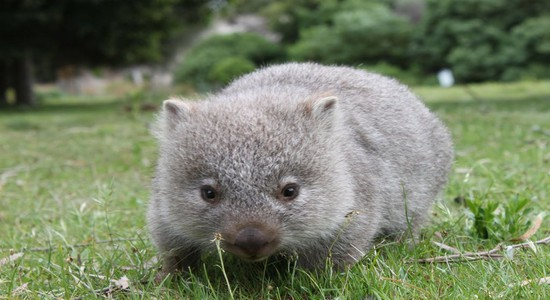Wombat: (146, 56, 452, 284)
